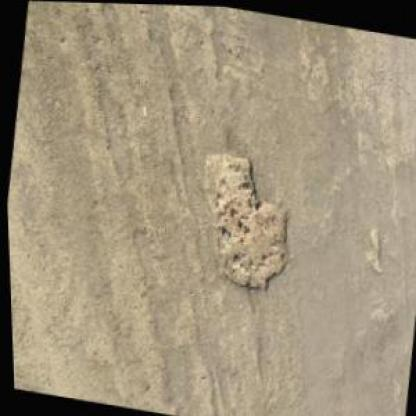pothole: (186, 144, 306, 297), (361, 223, 386, 276)
